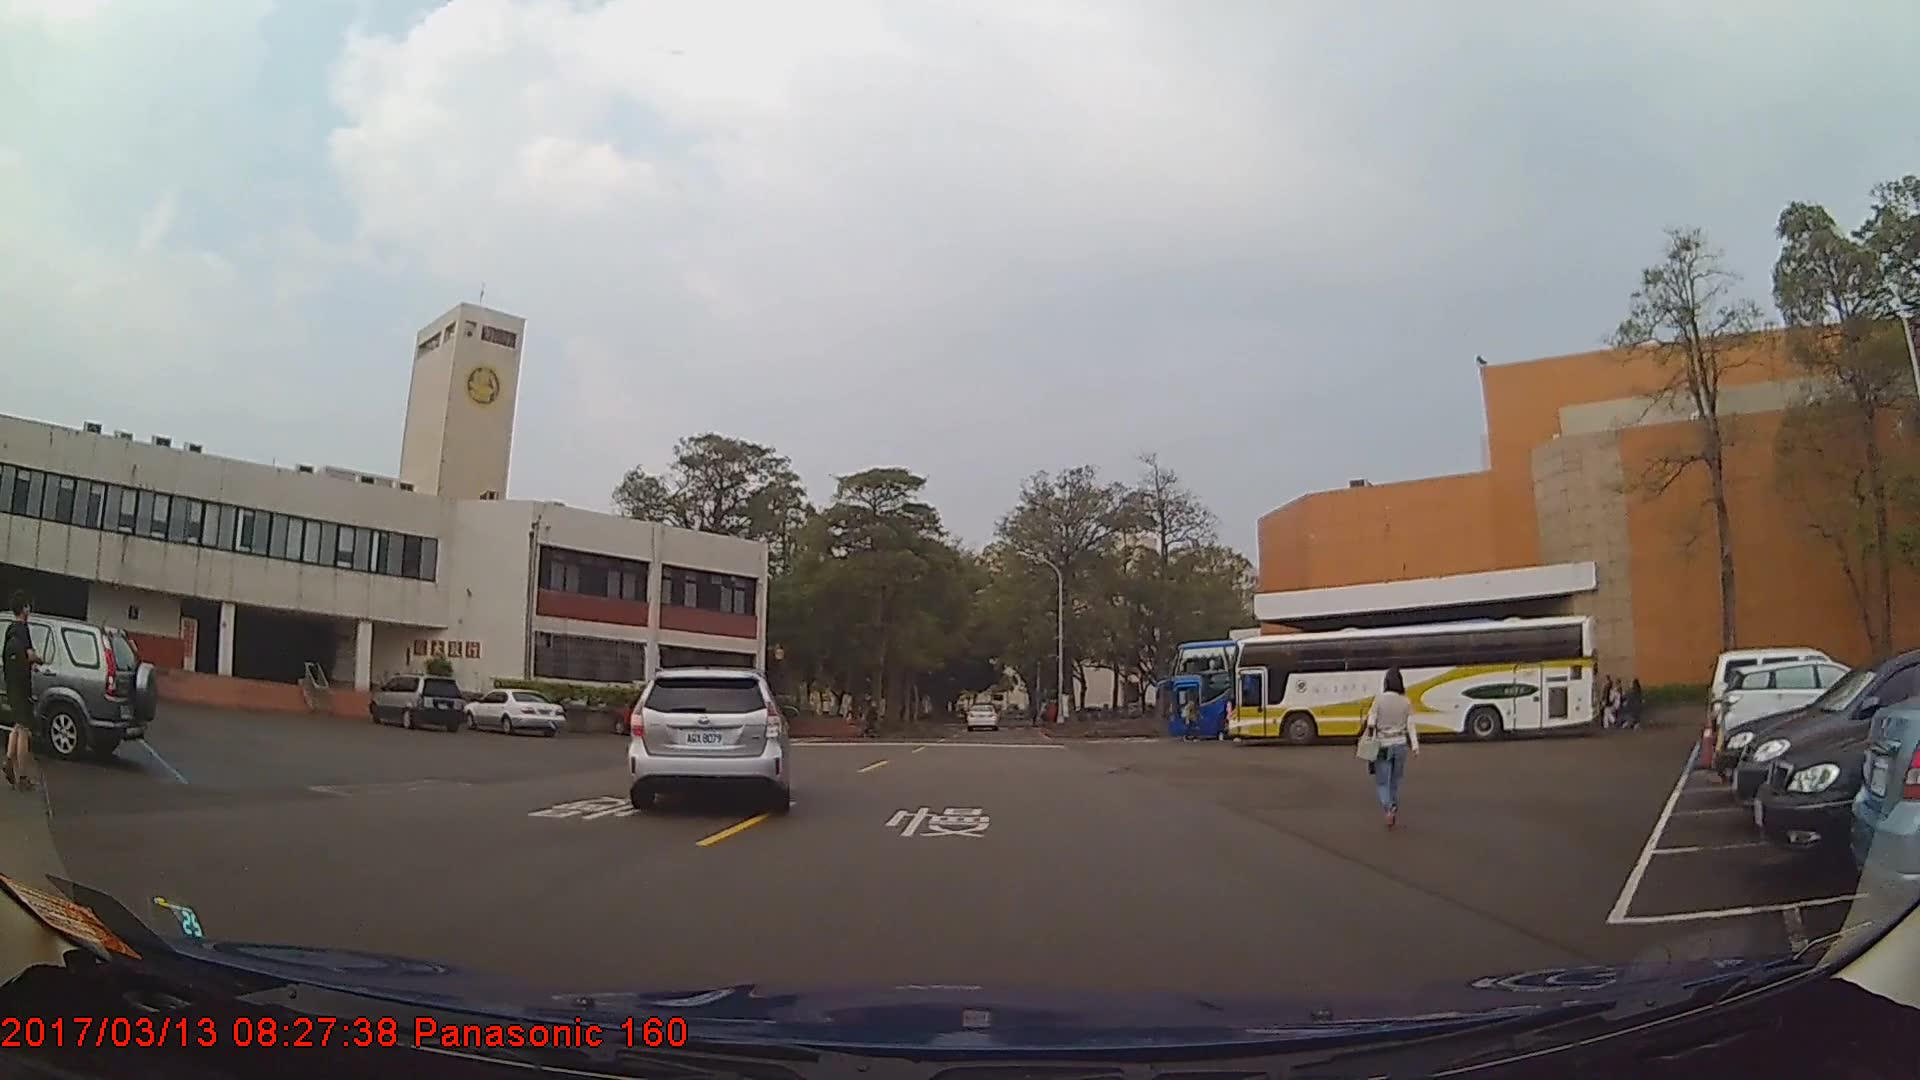pedestrian: (1359, 661, 1418, 828), (4, 598, 44, 796), (1621, 668, 1652, 731)
vehicle: (1223, 615, 1596, 748), (1734, 653, 1920, 835), (1164, 637, 1474, 738), (0, 609, 156, 762), (629, 667, 788, 814), (1718, 657, 1894, 751), (367, 672, 465, 729), (461, 685, 566, 734), (966, 704, 999, 731)
